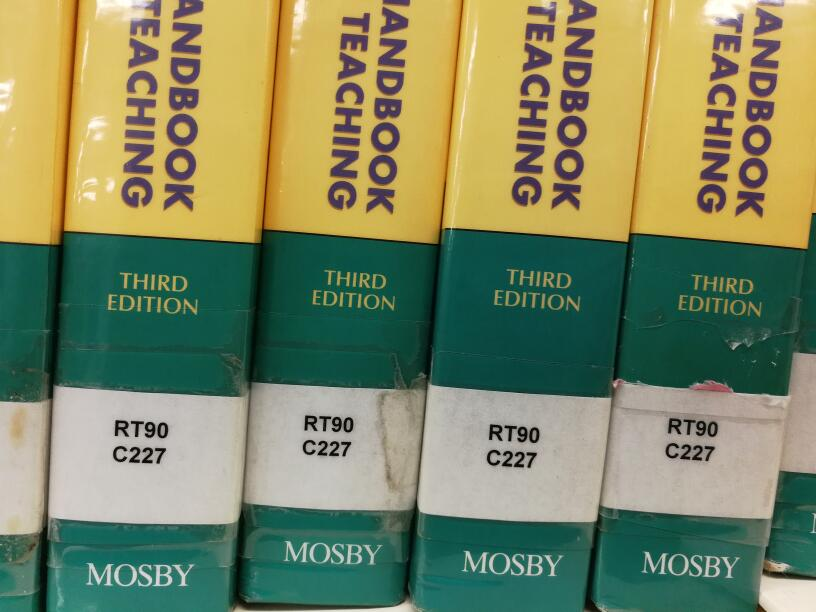booklabel: (108, 414, 172, 467), (483, 421, 543, 469), (664, 414, 721, 464), (300, 410, 358, 459)
